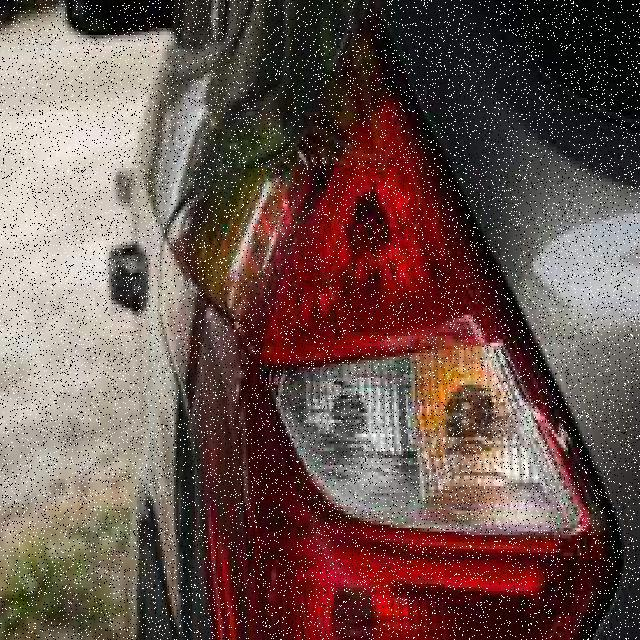Signlight-Damage: (258, 325, 601, 556)
